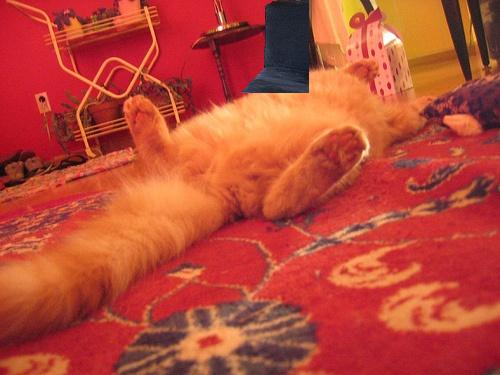tampered: (241, 1, 309, 93)
